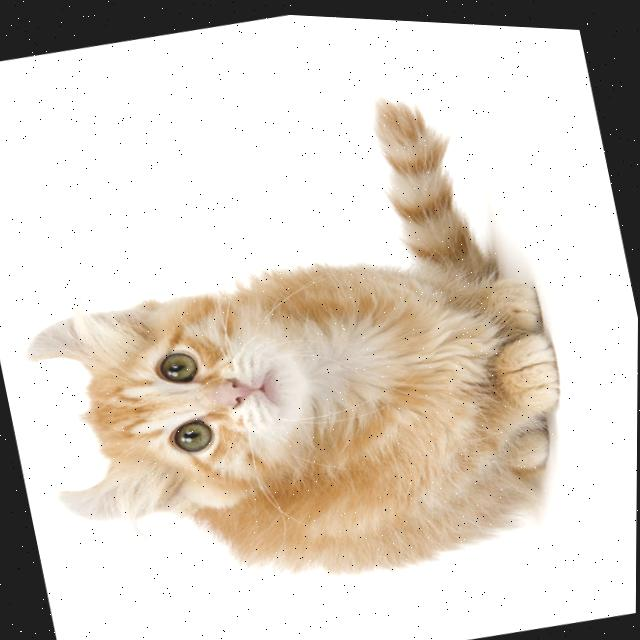American Curl: (0, 45, 602, 640)
